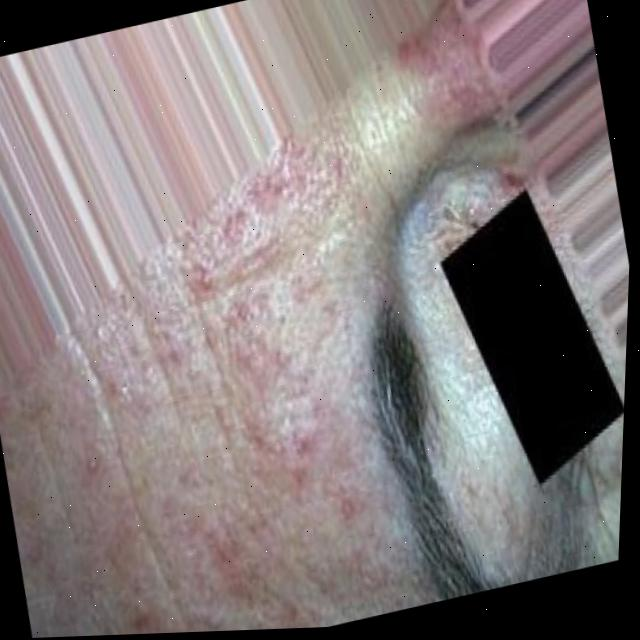Rosacea: (0, 198, 399, 640)
